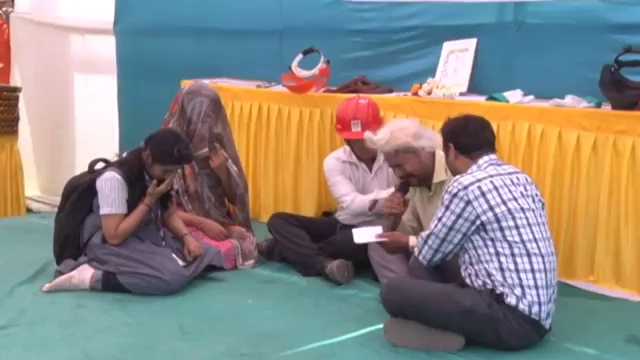helmet: (333, 100, 385, 145)
helmet_off: (438, 113, 502, 181), (172, 84, 228, 161), (378, 123, 437, 194), (128, 129, 197, 187)
helmet_on: (331, 98, 391, 164)
person: (377, 119, 561, 349), (38, 120, 230, 290), (254, 92, 406, 280), (158, 79, 256, 267), (366, 116, 456, 282)
